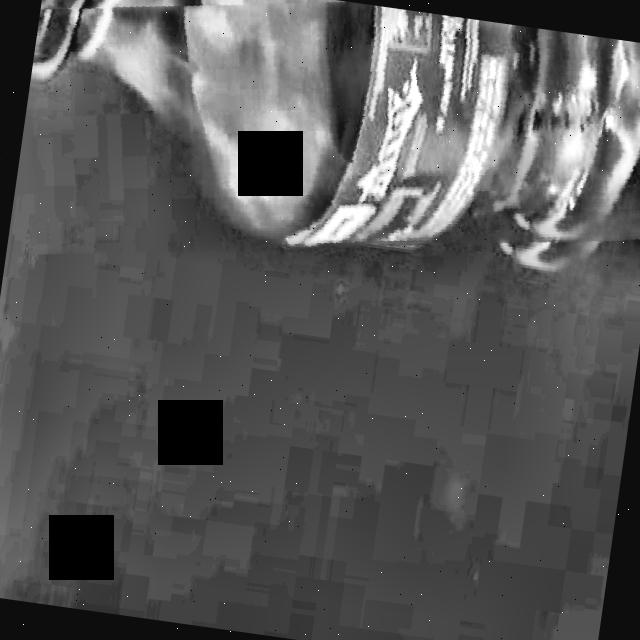bottle: (33, 0, 640, 248)
